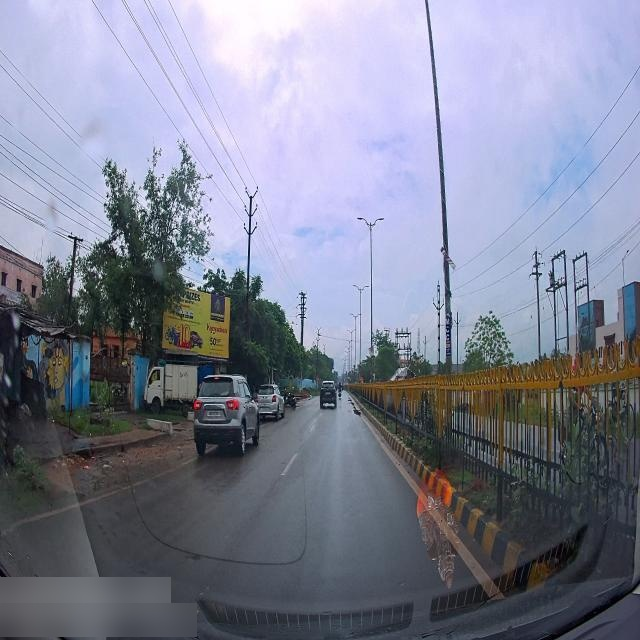pothole: (347, 394, 362, 419)
